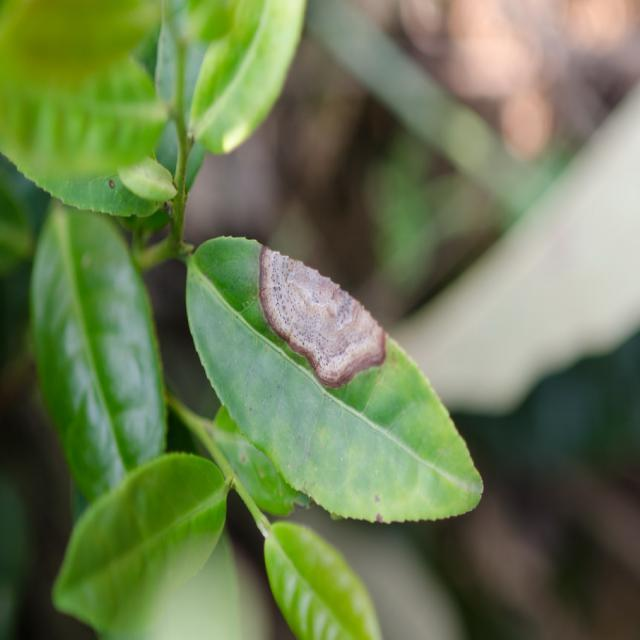Tea cloud leaf blight: (259, 234, 392, 383)
